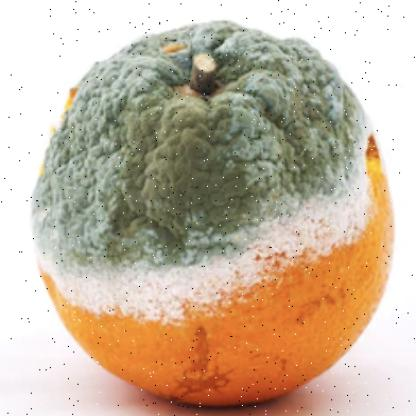rotten: (28, 21, 393, 403)
